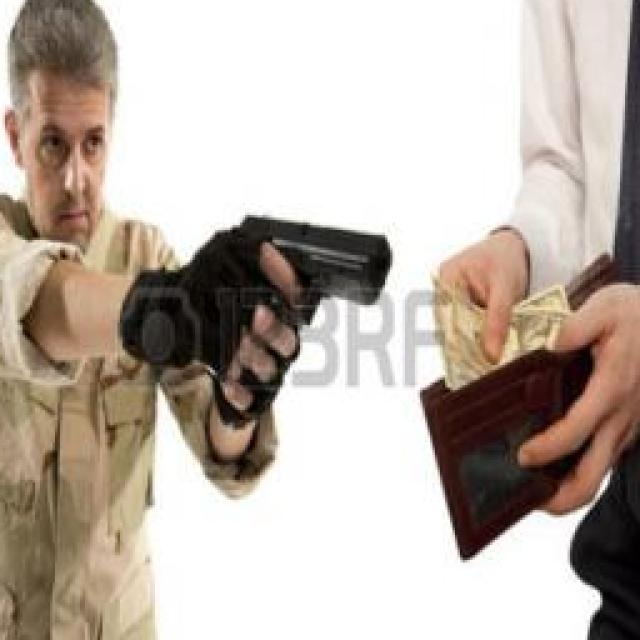pistol: (212, 208, 392, 406)
